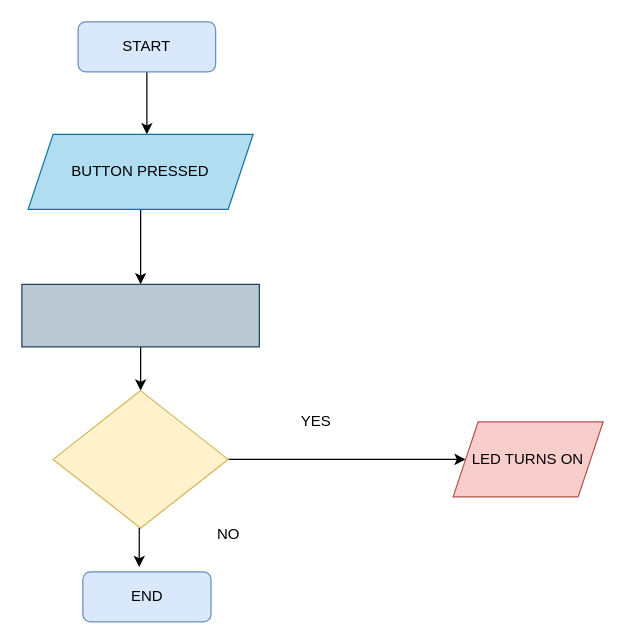
This 625x644 diagram has some shape labels left out. The shapes that lost their labels are listed below. From the top down, each one's centre as x and y in pixels, then its label:
At point 140,315: "INFORMATION SENDS TO (MICROCONTROLLER UNIT)".
At point 140,458: "IF THE BUTTON IS PRESSED".
